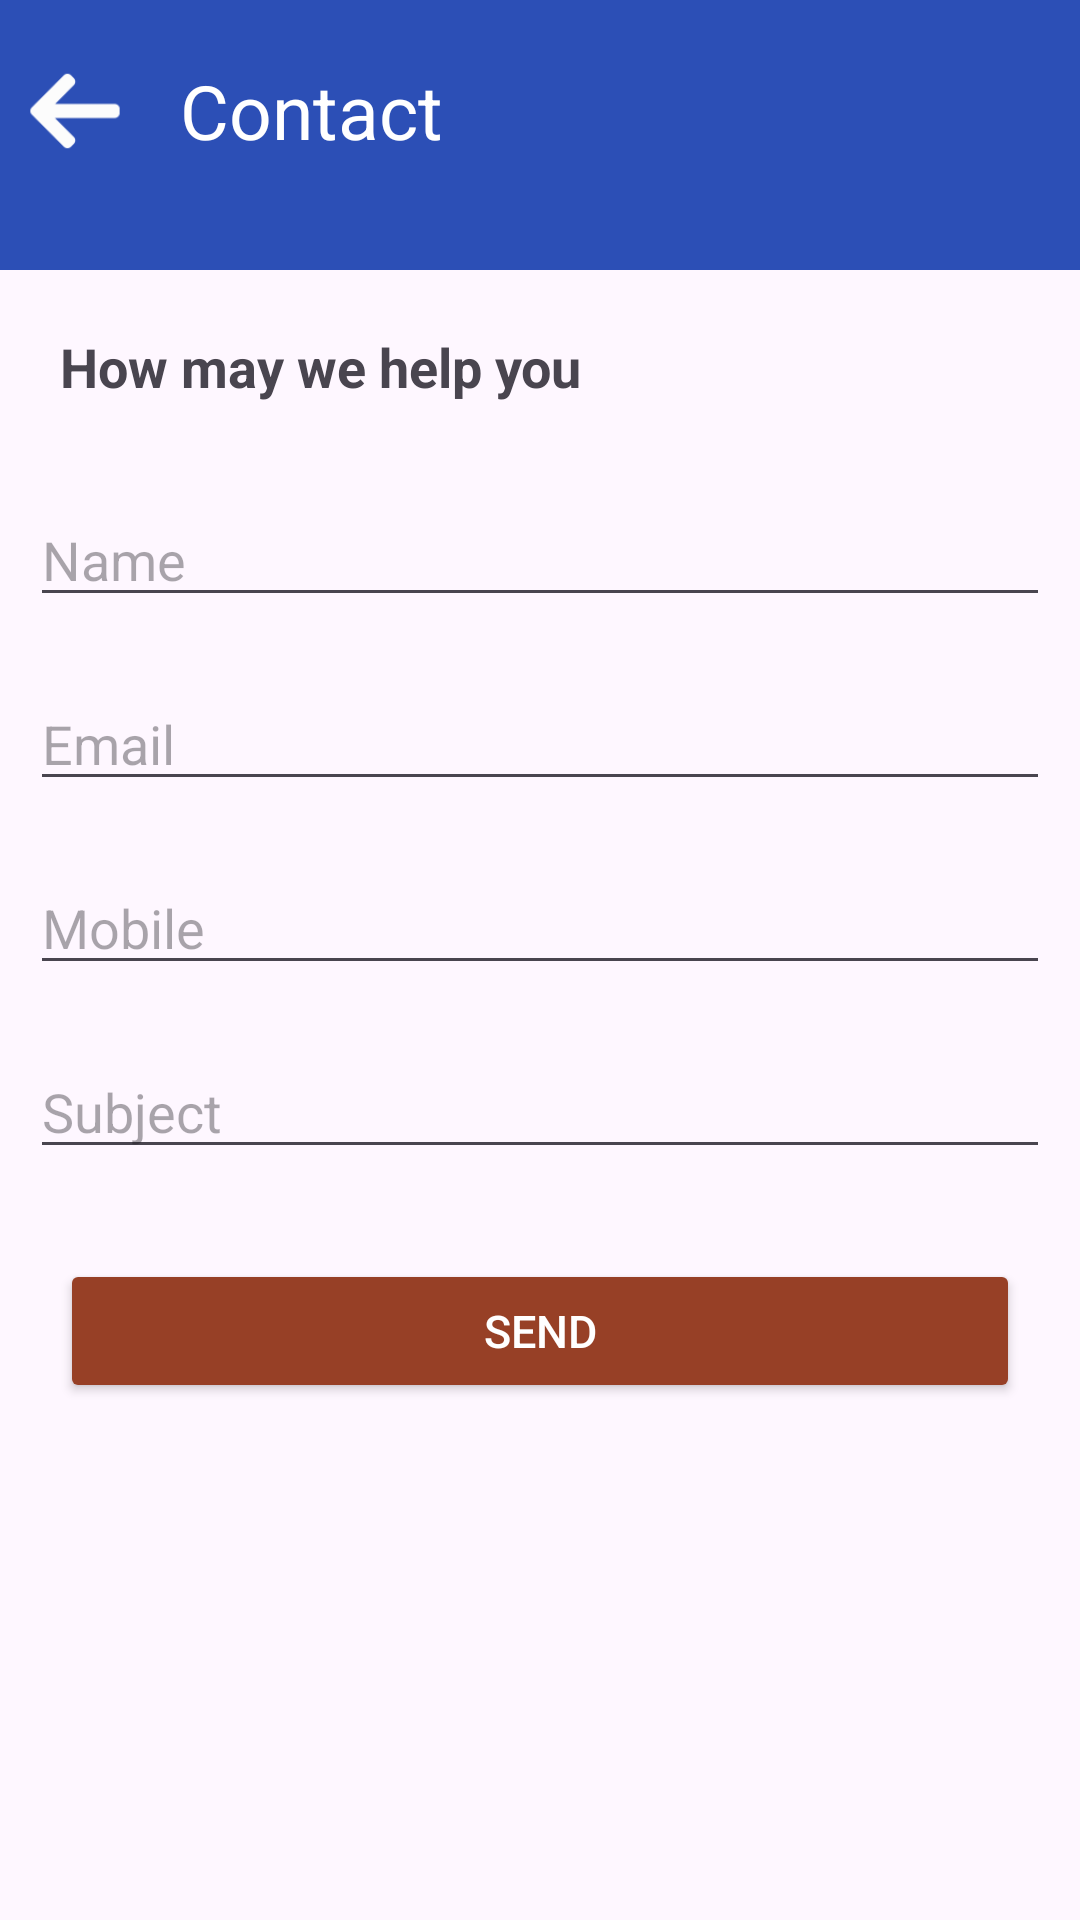

Named icons in this screenshot (1080*1920) and their bounding boxes, {"x1": x1, "y1": y1, "x2": x2, "y2": y2}:
arrow left: {"x1": 30, "y1": 73, "x2": 120, "y2": 149}
